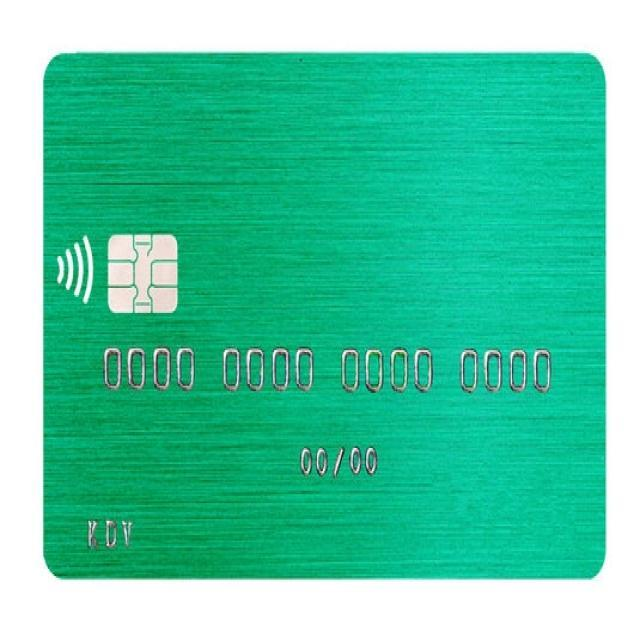payment_card: (41, 50, 607, 580)
